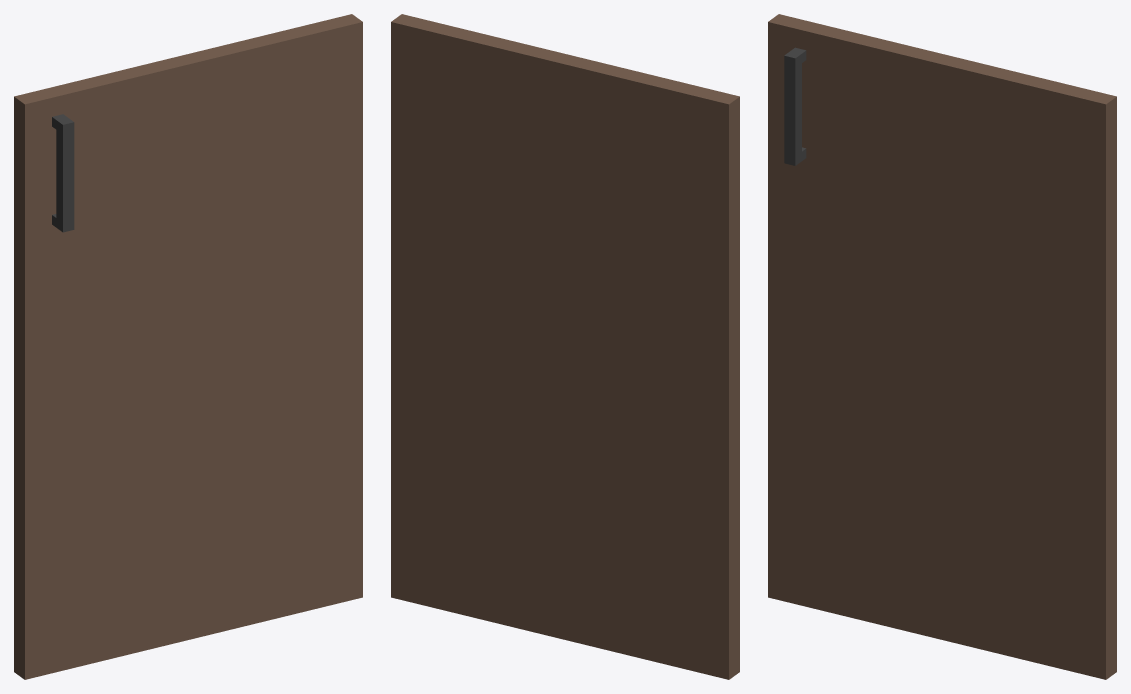
The model's file is BathroomDoor_C2_06.fbx.
3 renders of one model, left to right at view 1: azimuth 30°, elevation 25°; view 2: azimuth 150°, elevation 25°; view 3: azimuth 330°, elevation 25°, orthographic.
Visible parts, largest first — view 1: BathroomDoor_C2_06; view 2: BathroomDoor_C2_06; view 3: BathroomDoor_C2_06.
Part boxes in pixels (bbox=[...]): BathroomDoor_C2_06: bbox=[14, 14, 362, 679]; BathroomDoor_C2_06: bbox=[391, 14, 739, 679]; BathroomDoor_C2_06: bbox=[768, 14, 1116, 679].
Size of the model in its own units: 45 by 73.19 by 5.03.
